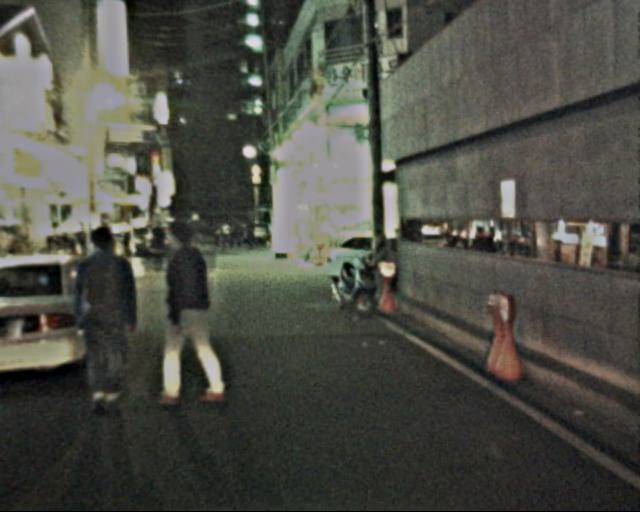person: (66, 221, 148, 409), (147, 219, 227, 410), (213, 216, 258, 253)
